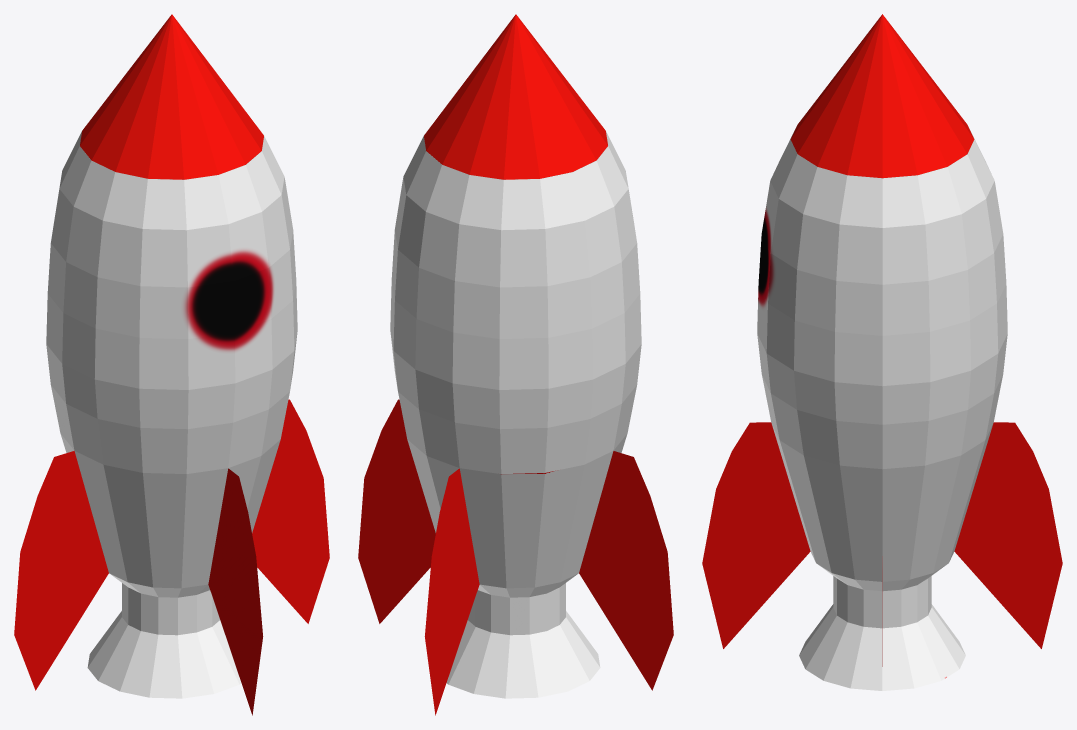
The model's file is Rocket.fbx.
The picture shows the model from 3 angles, left to right: view 1: azimuth 30°, elevation 25°; view 2: azimuth 150°, elevation 25°; view 3: azimuth 270°, elevation 25°; orthographic projection.
Visible parts, largest first — view 1: Cylinder, Base, Cone; view 2: Cylinder, Base, Cone; view 3: Cylinder, Base, Cone.
Part boxes in pixels (box(x1,y1,x2,y2)): Cylinder: box(46, 131, 297, 473); Base: box(14, 399, 329, 715); Cone: box(80, 14, 263, 179); Cylinder: box(390, 131, 641, 473); Base: box(358, 399, 673, 715); Cone: box(424, 14, 607, 179); Cylinder: box(757, 128, 1007, 469); Base: box(702, 422, 1062, 690); Cone: box(790, 14, 974, 178).
Bounding box in the file's own units: 108 × 213 × 108.
